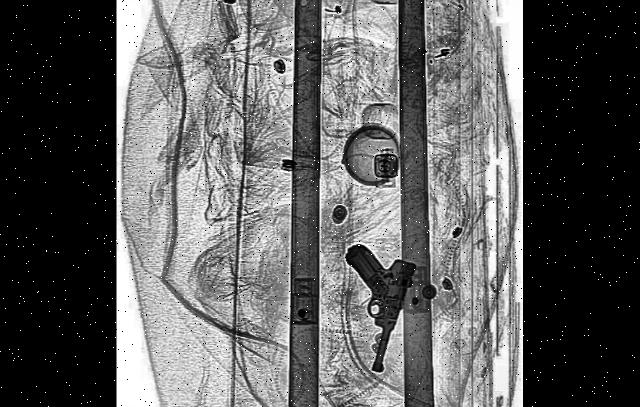Gun: (328, 228, 416, 380)
